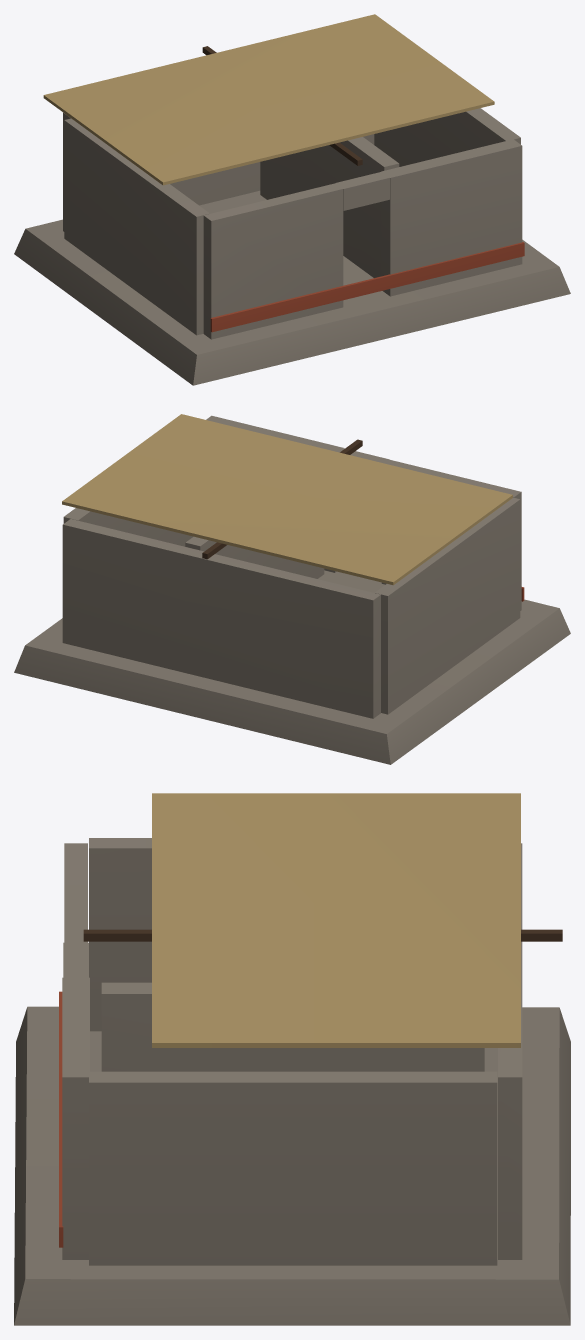
Rendered from caral_house_late_elite_lod1.glb.
3 views of the same model, one above another, from view 1: azimuth 30°, elevation 25°; view 2: azimuth 150°, elevation 25°; view 3: azimuth 270°, elevation 25° (orthographic). The views are drawn at different scales.
Parts seen in each view (by area): view 1: GEO-Arch_house_late_elite_LOD1; view 2: GEO-Arch_house_late_elite_LOD1; view 3: GEO-Arch_house_late_elite_LOD1.
Boxes of the visible parts, x1,y1,x2,y2 form: GEO-Arch_house_late_elite_LOD1: (14, 14, 570, 385); GEO-Arch_house_late_elite_LOD1: (14, 414, 570, 764); GEO-Arch_house_late_elite_LOD1: (14, 793, 570, 1325).
Size of the model in its own units: 9 by 3.82 by 7.44.
